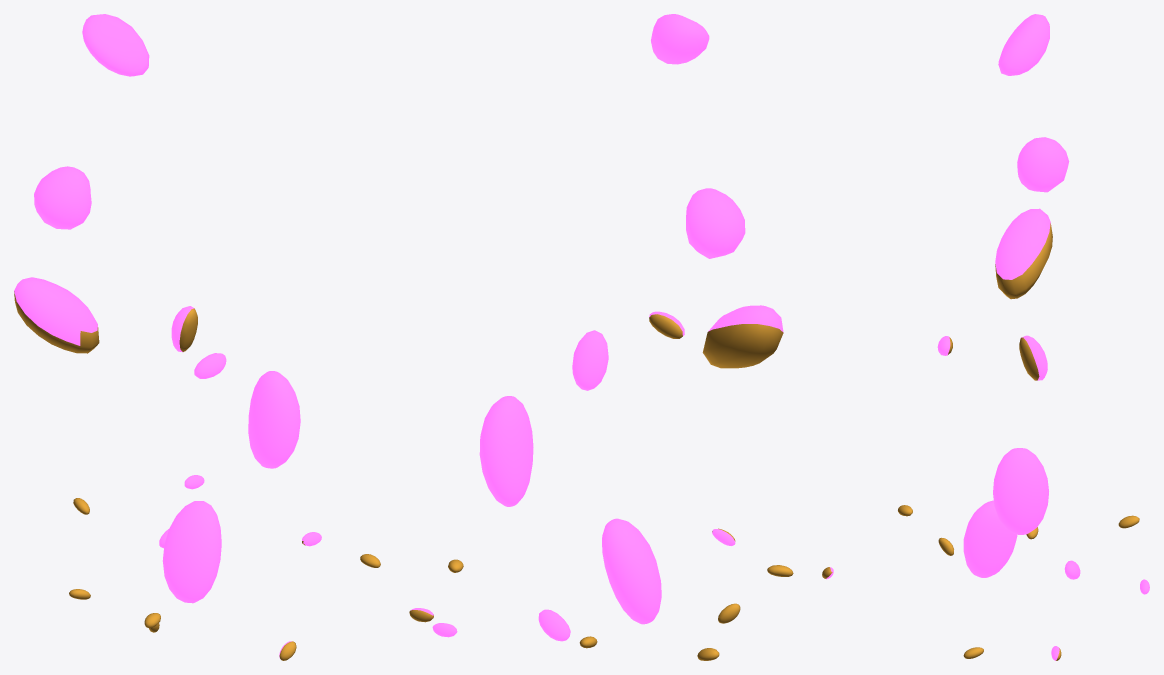
The model's file is Blobs2.fbx.
The picture shows the model from 3 angles, left to right: view 1: azimuth 30°, elevation 25°; view 2: azimuth 150°, elevation 25°; view 3: azimuth 270°, elevation 25°; orthographic projection. The views are drawn at different scales.
Visible parts, largest first — view 1: Sfere_LOD0; view 2: Sfere_LOD0; view 3: Sfere_LOD0.
Part boxes in pixels (box(x1,y1,x2,y2)): Sfere_LOD0: box(14, 14, 380, 660); Sfere_LOD0: box(409, 14, 793, 660); Sfere_LOD0: box(822, 14, 1149, 660).
Size of what is drawn, in the model's own units: 833 by 1432 by 782.
